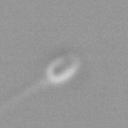normal: (1, 75, 50, 112)
